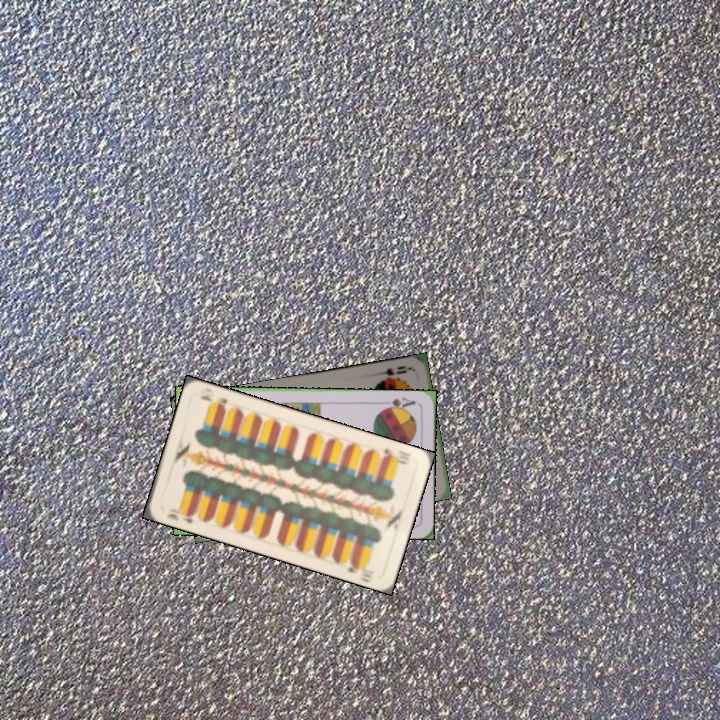E10: (378, 444, 413, 467), (163, 506, 199, 526)
SA: (379, 393, 418, 413)
SO: (372, 362, 413, 378)
